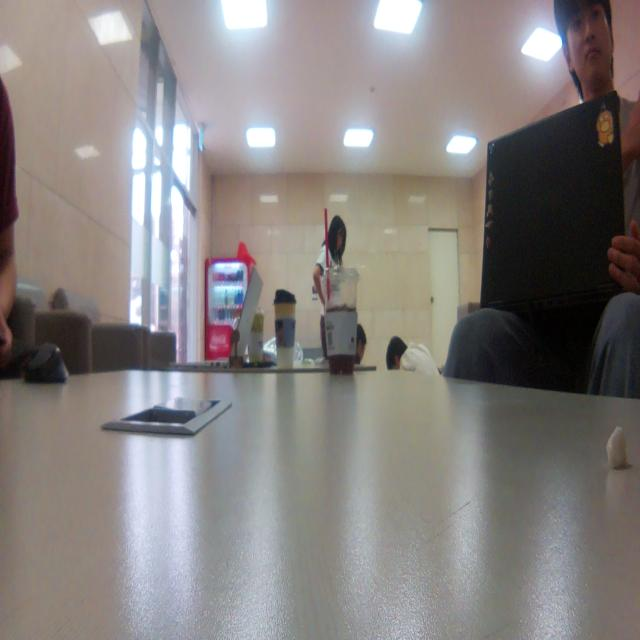target: (228, 328, 244, 369)
